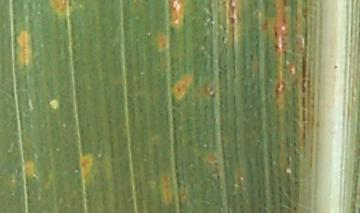tarspot: (333, 65, 338, 69)
